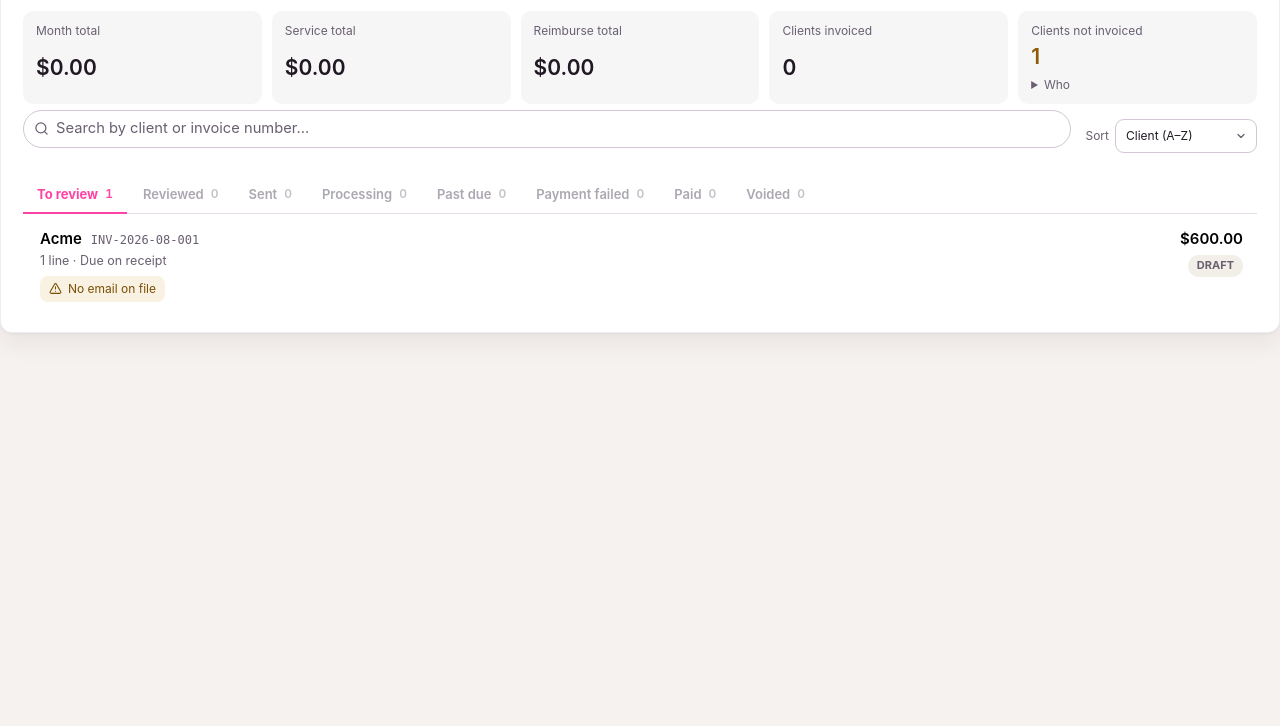
Test case: InvoiceMonthRun — the retainer credit › does not apply it on her behalf
Click the text "INV-2026-08-001": (145, 241) [91,232,199,250]
(page scrolled)
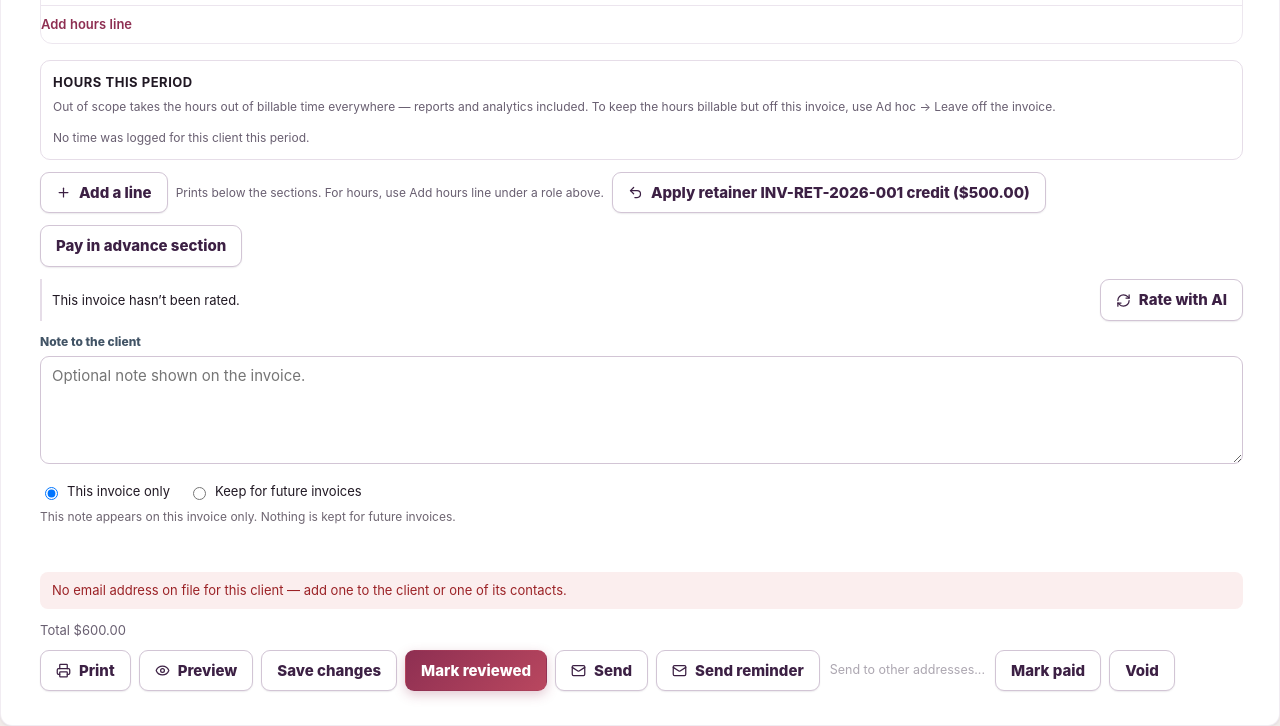
Check: the button "Apply retainer INV-RET-2026-001 credit ($500.00)" is shown, box [612,172,1046,213]
Check: the text "Total $600.00" is shown, box [40,621,126,640]
